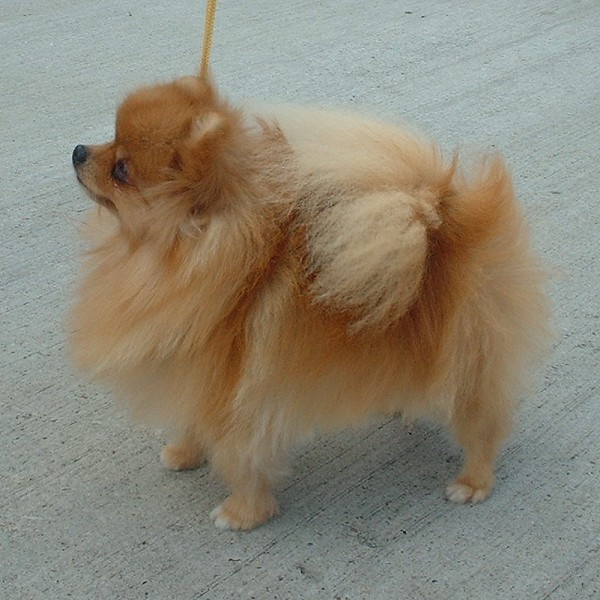pomeranian: (65, 65, 553, 551)
